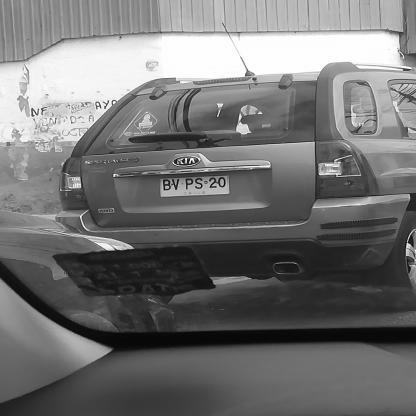Patente: (155, 171, 234, 200)
